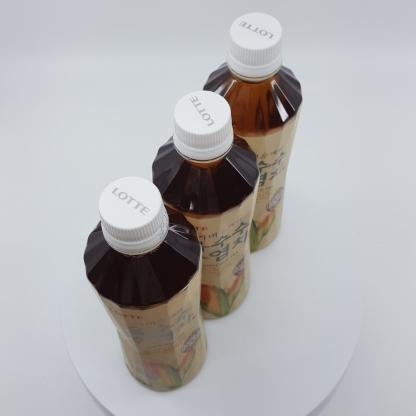--------500ML: (83, 176, 208, 392), (151, 90, 260, 320), (202, 12, 303, 252)
